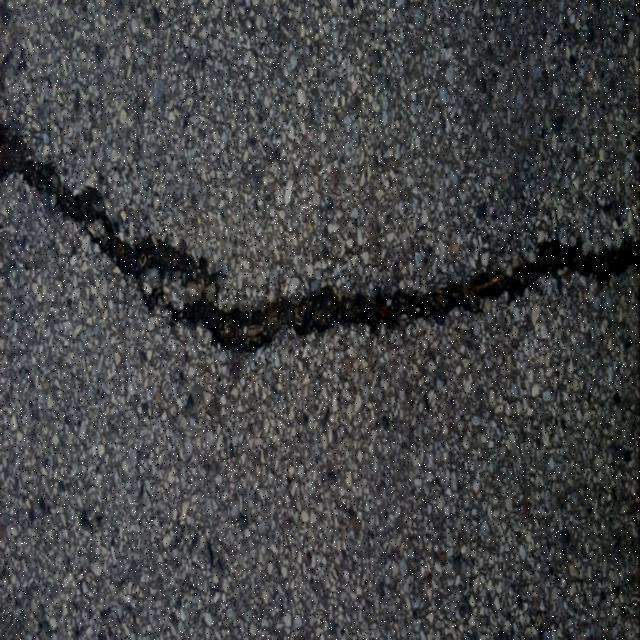Crack: (0, 124, 640, 351)
